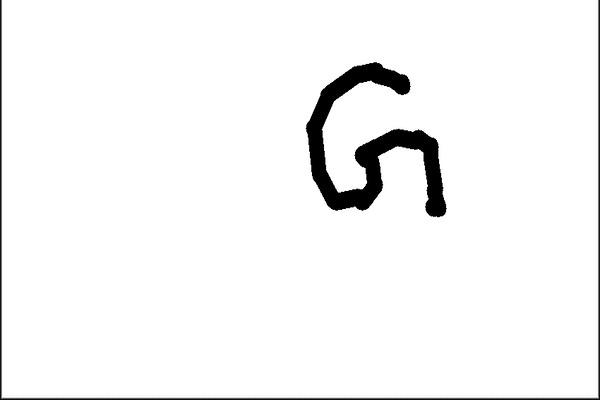G: (302, 59, 451, 221)
